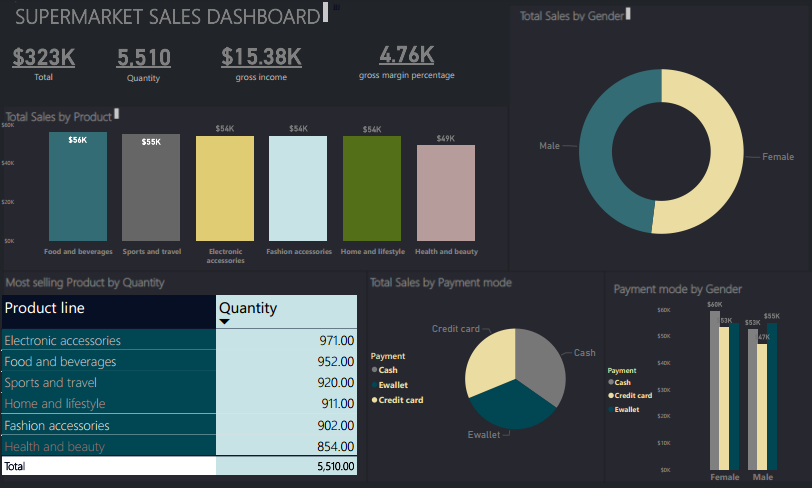

The page's visual inventory and layout, read from the dashboard file:
{"tool":"powerbi","page":{"name":"Page 1","canvas":[1500,900],"ordinal":0},"visuals":[{"type":"textbox","box":[26,0,584.4,52],"z":0},{"type":"textbox","box":[610,0,503,198],"z":1000},{"type":"textbox","box":[26,304,607,150],"z":2000},{"type":"textbox","box":[26,519,607,150],"z":3000},{"type":"textbox","box":[26,52,281,151],"z":4000},{"type":"card","fields":{"Values":["Sum(supermarket_sales - Sheet1 (1).Total)"]},"box":[0,25.6,167.3,173.2],"z":5000},{"type":"card","fields":{"Values":["Sum(supermarket_sales - Sheet1 (1).Quantity)"]},"box":[167.3,51.2,200.8,122],"z":6000},{"type":"card","fields":{"Values":["Sum(supermarket_sales - Sheet1 (1).gross income)"]},"box":[391.7,43.3,183.1,135.8],"z":7000},{"type":"card","fields":{"Values":["Sum(supermarket_sales - Sheet1 (1).gross margin percentage)"]},"box":[620.1,43.3,259.8,128],"z":8000},{"type":"columnChart","fields":{"Y":["Sum(supermarket_sales - Sheet1 (1).Total)"],"Category":["supermarket_sales - Sheet1 (1).Product line"]},"box":[0,216.5,937,279.5],"z":9000},{"type":"donutChart","title":"Total Sales by Gender","fields":{"Category":["supermarket_sales - Sheet1 (1).Gender"],"Y":["Sum(supermarket_sales - Sheet1 (1).Total)"]},"box":[936.4,64.2,563.6,431.8],"z":10000},{"type":"clusteredColumnChart","fields":{"Category":["supermarket_sales - Sheet1 (1).Gender"],"Y":["Sum(supermarket_sales - Sheet1 (1).Total)"],"Series":["supermarket_sales - Sheet1 (1).Payment"]},"box":[1114.2,539.4,385.8,360.2],"z":11000},{"type":"pieChart","fields":{"Category":["supermarket_sales - Sheet1 (1).Payment"],"Y":["Sum(supermarket_sales - Sheet1 (1).Total)"]},"box":[679.1,496.1,435,403.5],"z":12000},{"type":"tableEx","fields":{"Values":["supermarket_sales - Sheet1 (1).Product line","Sum(supermarket_sales - Sheet1 (1).Quantity)"]},"box":[0,539.3,664.2,346.8],"z":13000}]}

Visuals, with their boxes in screenshot pixels (x1, y1, x2, y2), scaled from the page's 1500x900 canvas onto the 812x488 screenshot:
textbox: left=14, top=0, right=330, bottom=28
textbox: left=330, top=0, right=603, bottom=107
textbox: left=14, top=165, right=343, bottom=246
textbox: left=14, top=281, right=343, bottom=363
textbox: left=14, top=28, right=166, bottom=110
card - Sum(supermarket_sales - Sheet1 (1).Total): left=0, top=14, right=91, bottom=108
card - Sum(supermarket_sales - Sheet1 (1).Quantity): left=91, top=28, right=199, bottom=94
card - Sum(supermarket_sales - Sheet1 (1).gross income): left=212, top=23, right=311, bottom=97
card - Sum(supermarket_sales - Sheet1 (1).gross margin percentage): left=336, top=23, right=476, bottom=93
columnChart - Sum(supermarket_sales - Sheet1 (1).Total) x supermarket_sales - Sheet1 (1).Product line: left=0, top=117, right=507, bottom=269
"Total Sales by Gender" donutChart: left=507, top=35, right=811, bottom=269
clusteredColumnChart - supermarket_sales - Sheet1 (1).Gender x Sum(supermarket_sales - Sheet1 (1).Total): left=603, top=292, right=811, bottom=487
pieChart - supermarket_sales - Sheet1 (1).Payment x Sum(supermarket_sales - Sheet1 (1).Total): left=368, top=269, right=603, bottom=487
tableEx - supermarket_sales - Sheet1 (1).Product line x Sum(supermarket_sales - Sheet1 (1).Quantity): left=0, top=292, right=360, bottom=480
